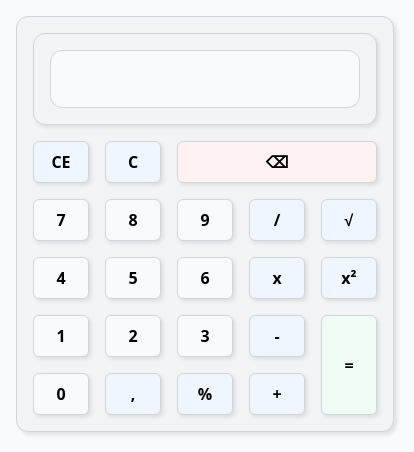
test_special_operations › Must click on a number, on "√", on "=" and check the result
Click the button with test id "button-1": (61, 336) [33,315,89,357]
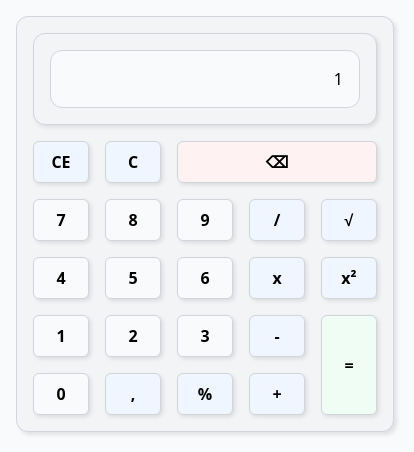
Click the button with test id "button-4": (61, 278) [33,257,89,299]
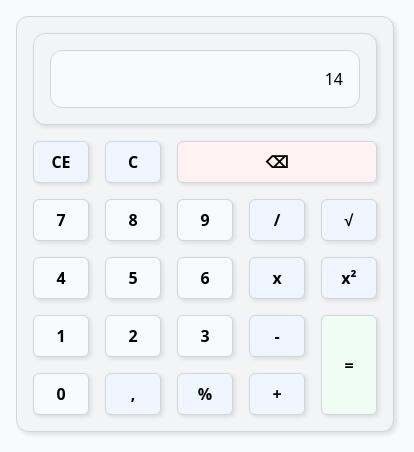
Click the button with test id "button-4": (61, 278) [33,257,89,299]
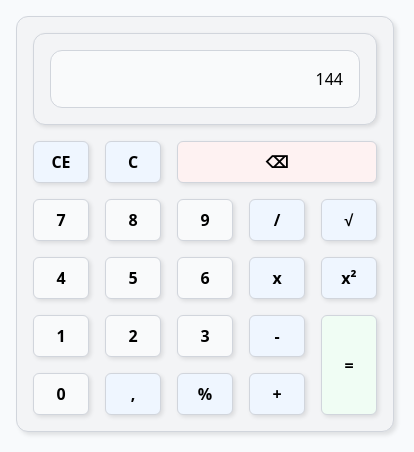
Click the button with test id "button-sqrt": (349, 220) [321,199,377,241]
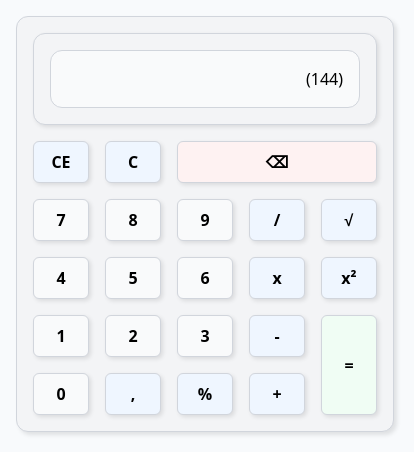
Click the button with test id "button-=": (349, 365) [321,315,377,415]
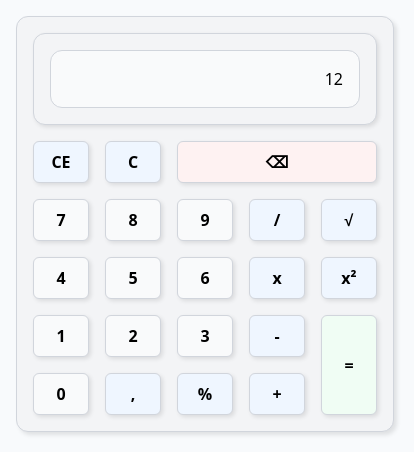
Check: the element with test id "result" reads "12", box [325,68,343,90]
